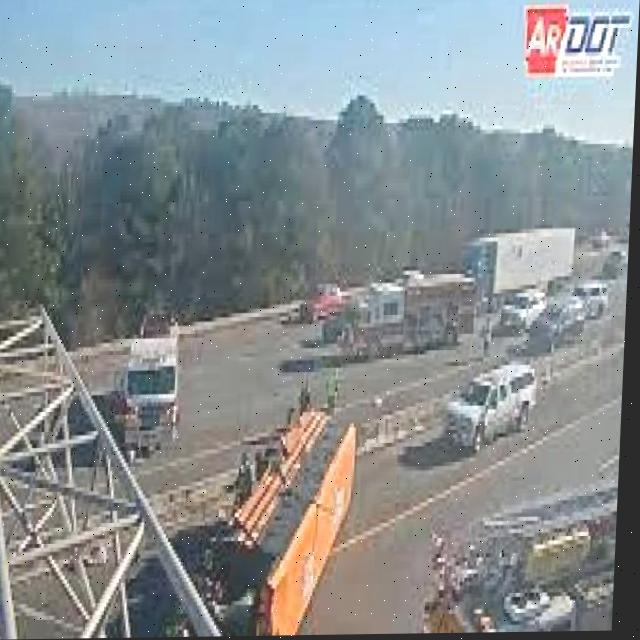normal: (291, 249, 640, 374), (421, 359, 550, 449), (119, 329, 196, 439)
single accident: (236, 387, 346, 634)
